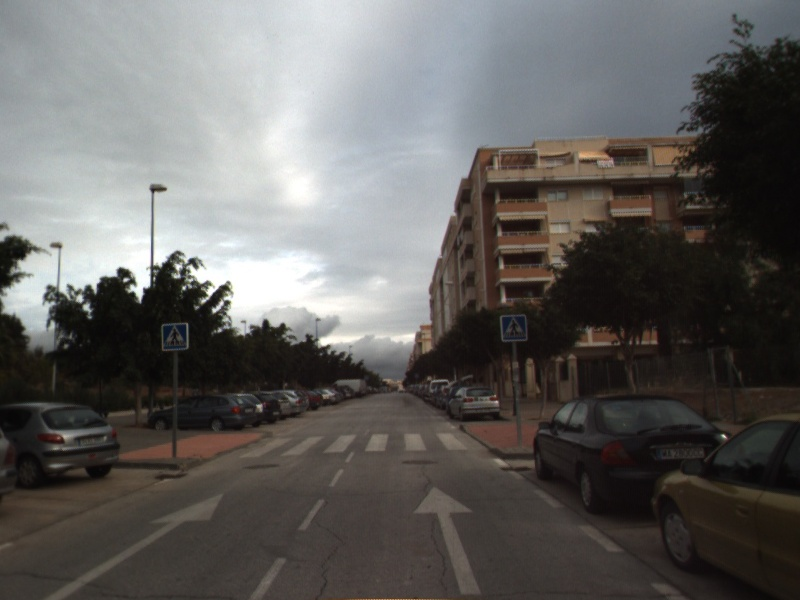STRAIGHT: (40, 491, 226, 600), (410, 484, 483, 596)
